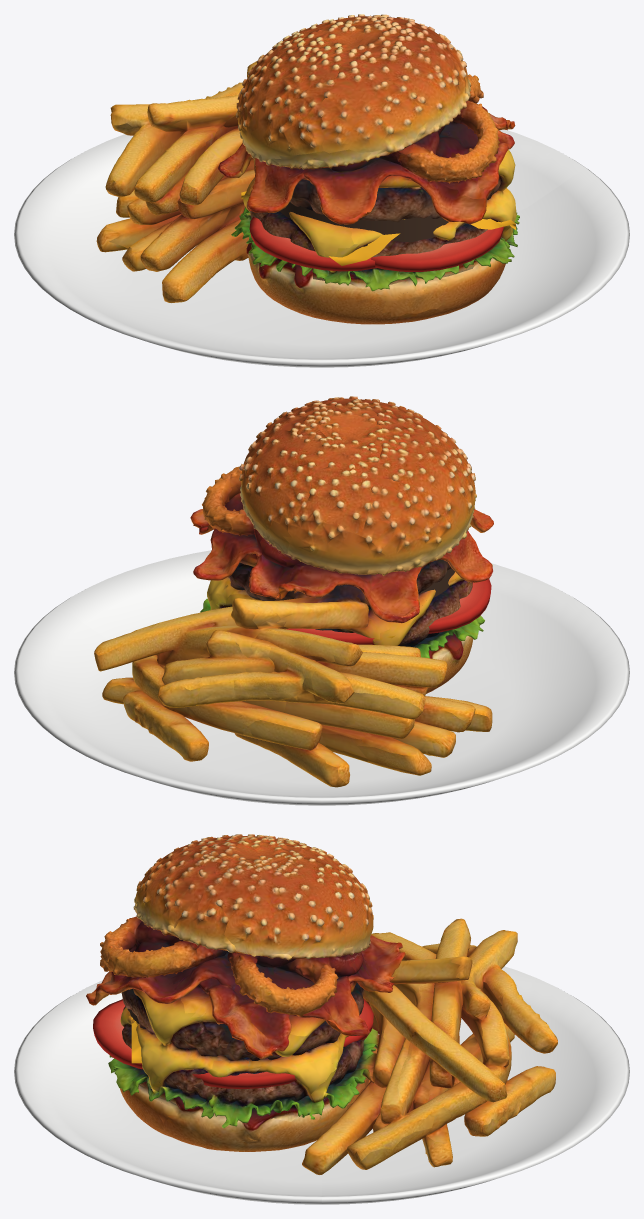
File: hamburguesa.glb
3 views of the same model, one above another, from view 1: azimuth 30°, elevation 25°; view 2: azimuth 150°, elevation 25°; view 3: azimuth 270°, elevation 25° (orthographic).
Parts seen in each view (by area): view 1: cuerpo, plato, lechuga, carne, jitomate, relleno, queso; view 2: cuerpo, plato, carne, jitomate, lechuga; view 3: cuerpo, plato, lechuga, carne, jitomate.
Boxes of the visible parts, x1,y1,x2,y2 form: cuerpo: (96, 14, 515, 324); plato: (14, 129, 629, 367); lechuga: (231, 207, 519, 294); carne: (243, 169, 516, 257); jitomate: (249, 216, 503, 271); relleno: (280, 202, 466, 242); queso: (241, 191, 515, 265); cuerpo: (94, 396, 493, 787); plato: (14, 550, 629, 805); carne: (207, 576, 474, 645); jitomate: (286, 579, 491, 644); lechuga: (200, 596, 484, 659); cuerpo: (86, 834, 557, 1174); plato: (14, 966, 629, 1204); lechuga: (108, 1028, 378, 1128); carne: (120, 995, 373, 1091); jitomate: (93, 999, 373, 1088).
Size of the model in its own units: 0.274 by 0.1313 by 0.274.
4 materials, 2 textured.
